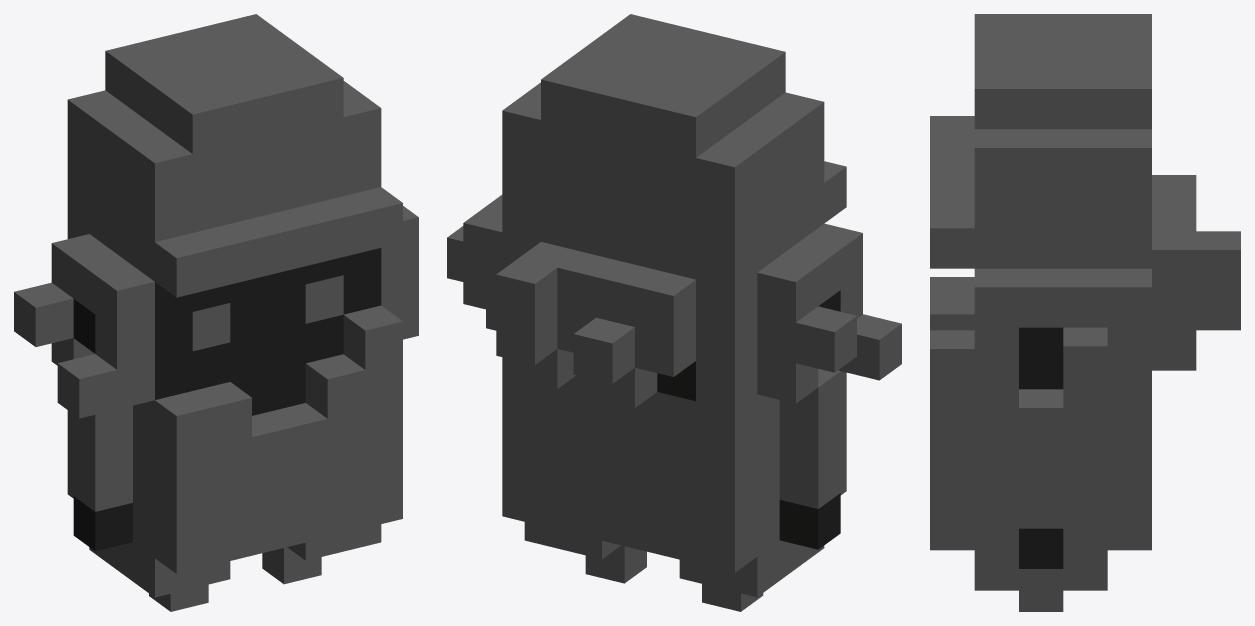
Rendered from chr_worker2.obj.
3 renders of one model, left to right at view 1: azimuth 30°, elevation 25°; view 2: azimuth 150°, elevation 25°; view 3: azimuth 270°, elevation 25°, orthographic. The views are drawn at different scales.
Bounding box in the file's own units: 10 × 13 × 7.
